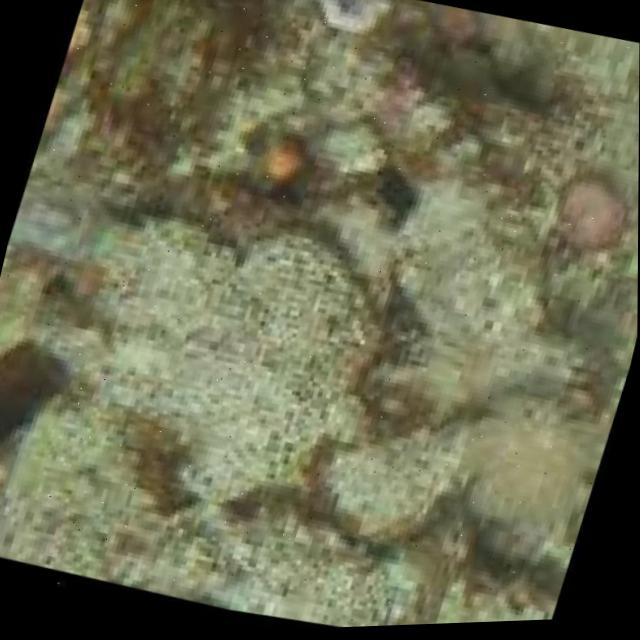Bleached Coral: (0, 150, 519, 640)
